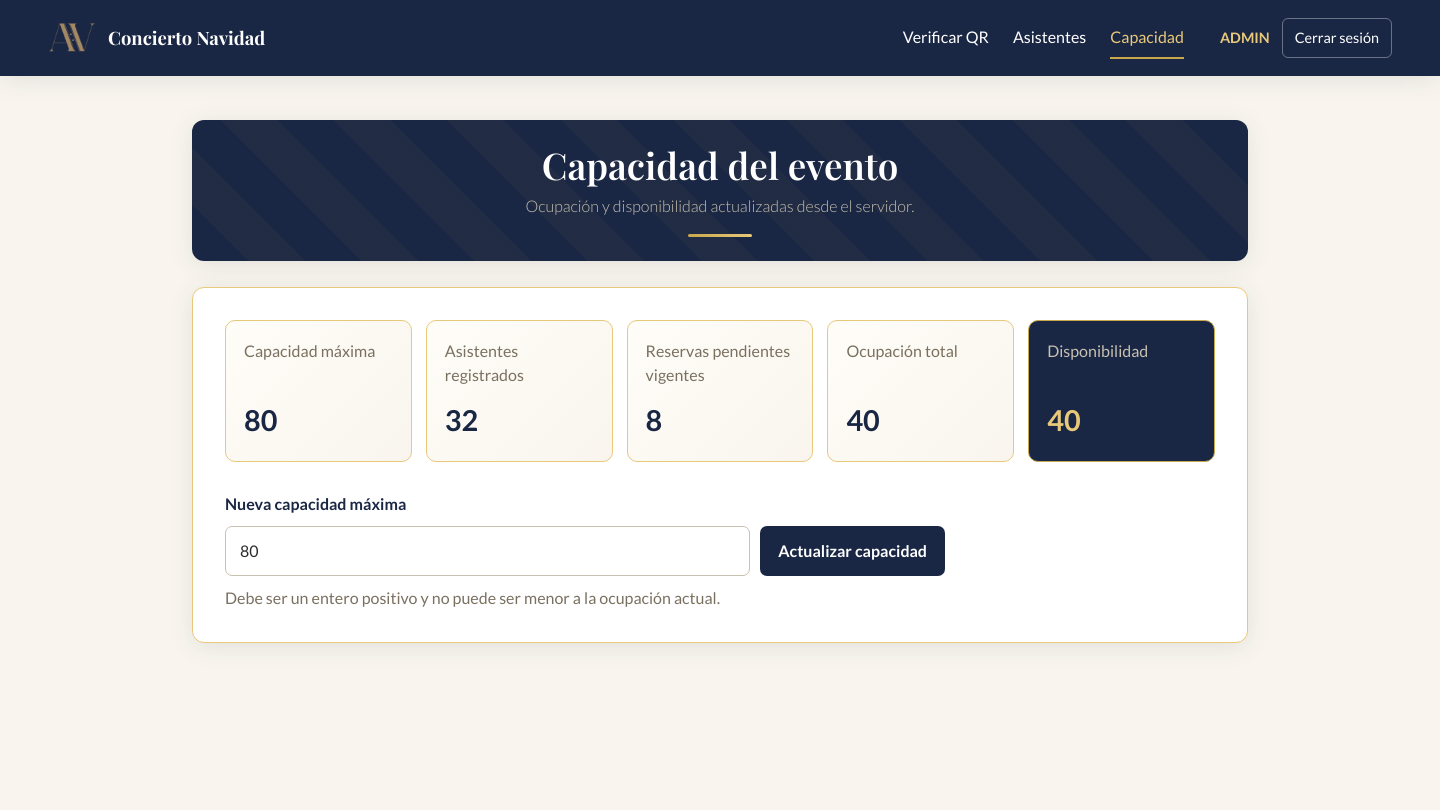
Test: inicializa la capacidad desde el backend y envía el valor editado
The image size is (1440, 810).
Replace the text in the number field labelled "Nueva capacidad máxima" with "90": (488, 550) x1=225 y1=526 x2=750 y2=576
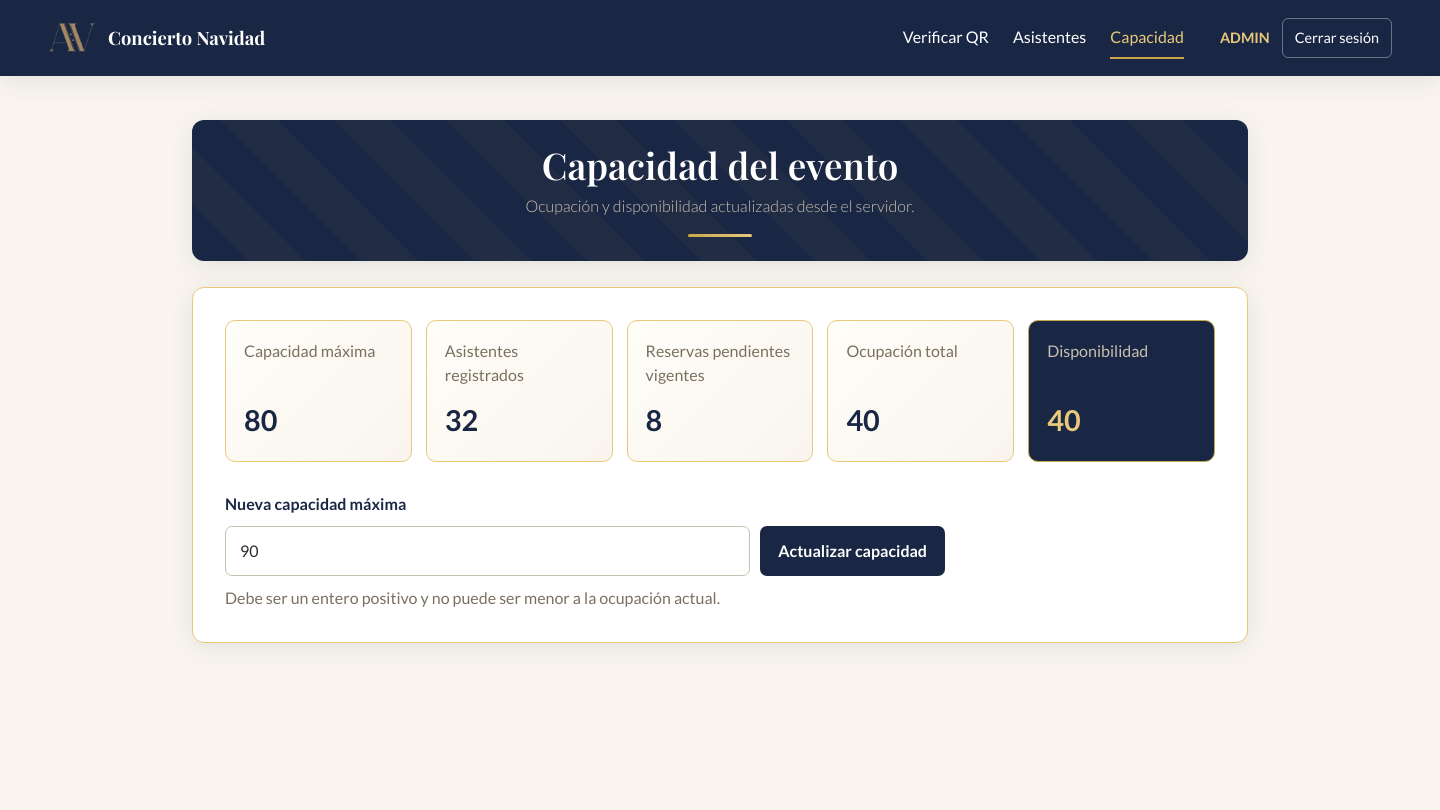
Click the button "Actualizar capacidad": (853, 550) x1=760 y1=526 x2=945 y2=576
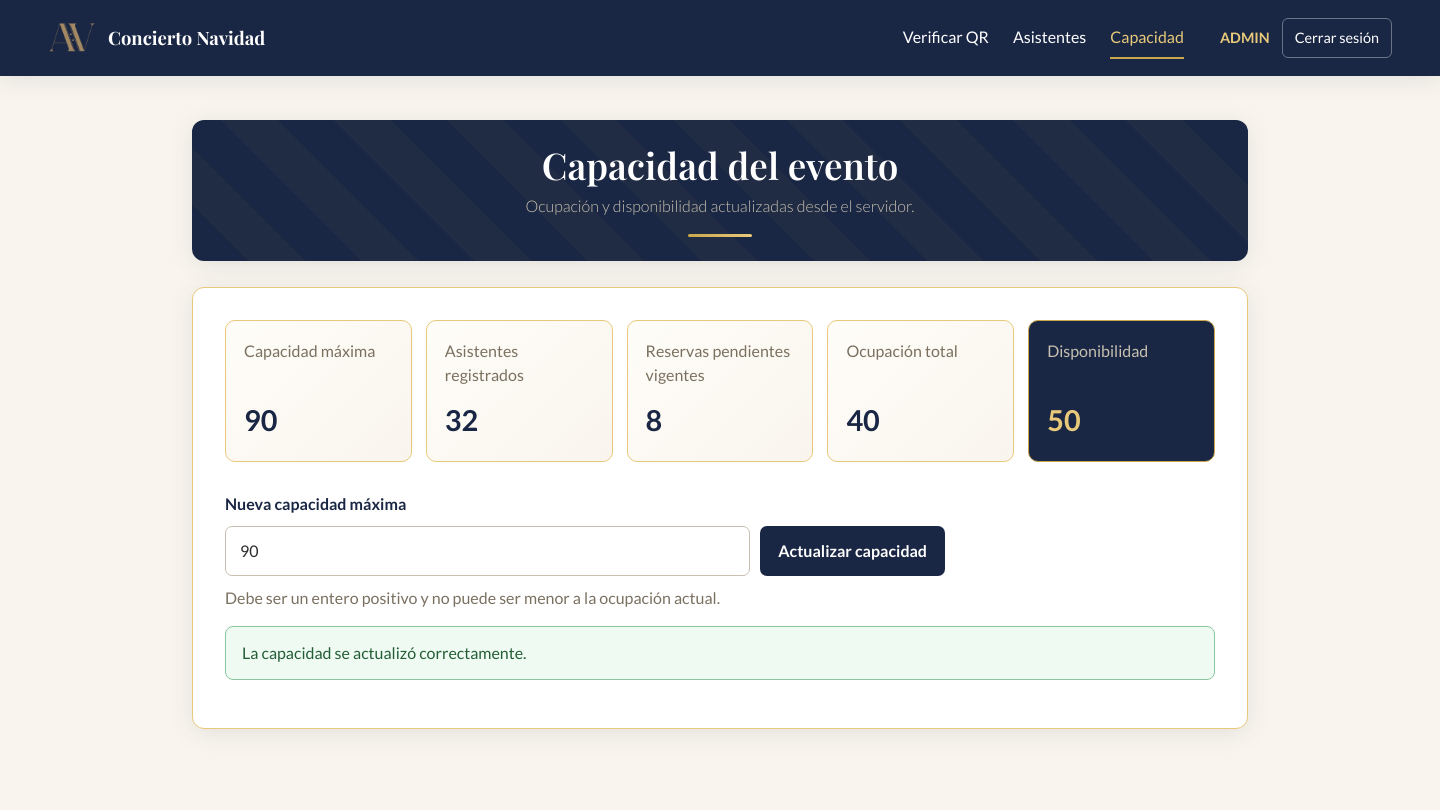
Result: the text "La capacidad se actualizó correctamente." is shown at x1=225 y1=626 x2=1215 y2=680
Result: the text "50" is shown at x1=1047 y1=403 x2=1081 y2=437
